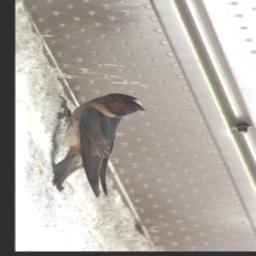Swallow: (49, 93, 146, 198)
